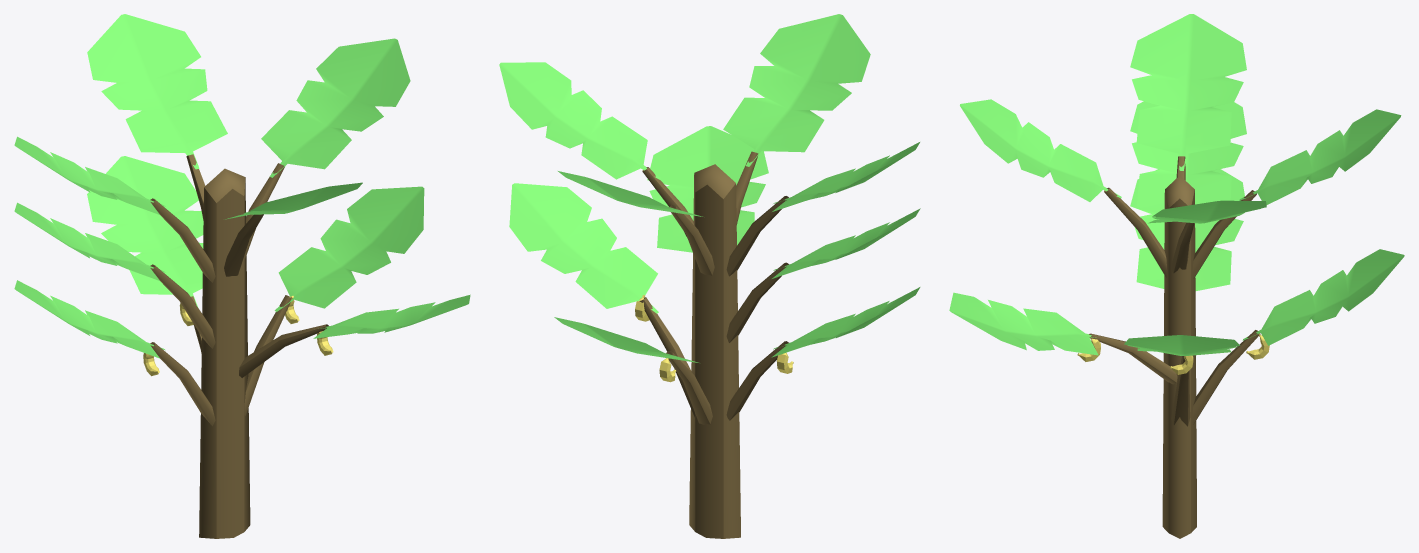
File: Benana_Tree_with.fbx
3 renders of one model, left to right at view 1: azimuth 30°, elevation 25°; view 2: azimuth 150°, elevation 25°; view 3: azimuth 270°, elevation 25°, orthographic. The views are drawn at different scales.
Visible parts, largest first — view 1: Benana_Tree_With; view 2: Benana_Tree_With; view 3: Benana_Tree_With.
Part boxes in pixels (x1,y1,x2,y2): Benana_Tree_With: (14,14,470,538); Benana_Tree_With: (499,14,920,538); Benana_Tree_With: (949,14,1404,538).
Bounding box in the file's own units: 4.08 × 4.17 × 4.13.
